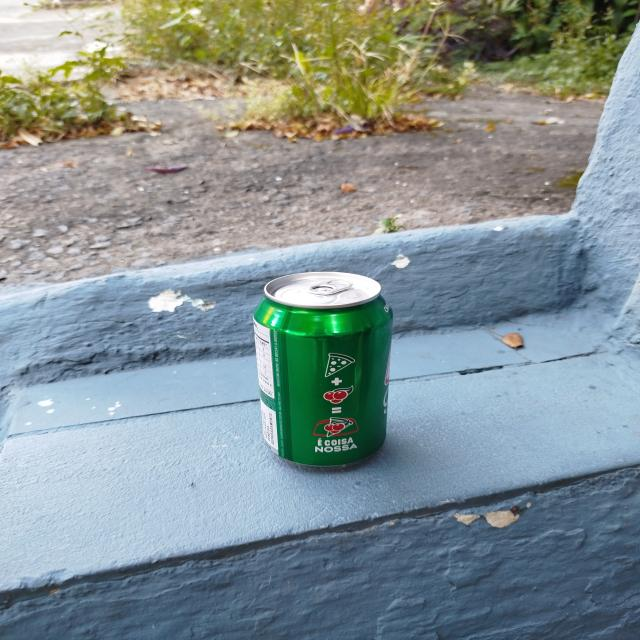Guarana: (257, 272, 394, 466)
